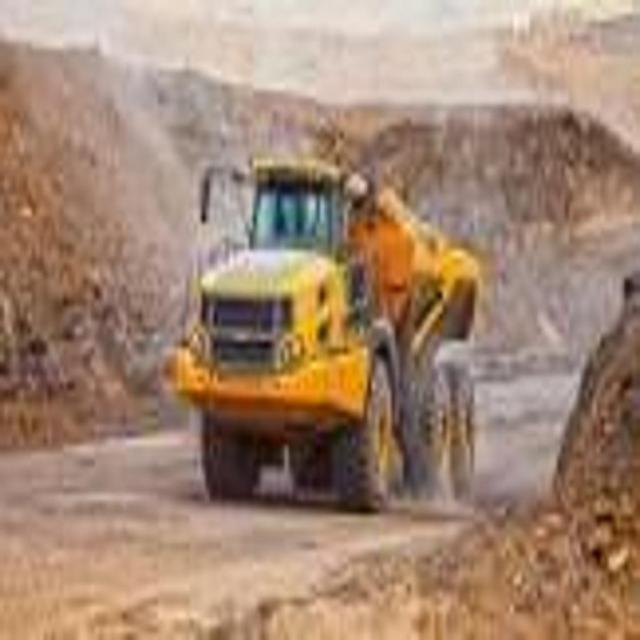dump_truck: (174, 138, 484, 530)
